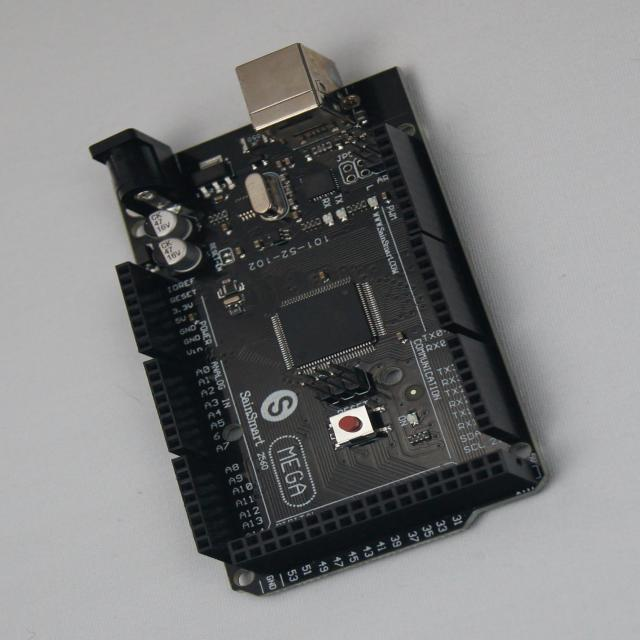Arduino Mega 2560 -Black-: (91, 44, 544, 595)
